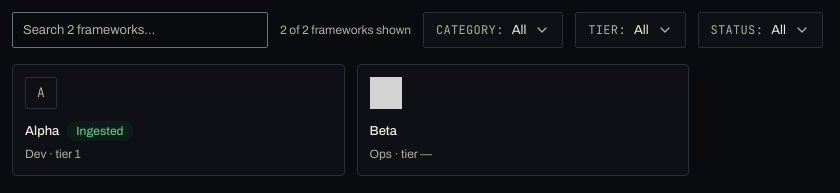
Test: CatalogStage › filters tiles by the search box
Type "beta" into the field named "Search the catalog" at (140, 30), box [12, 12, 268, 48]
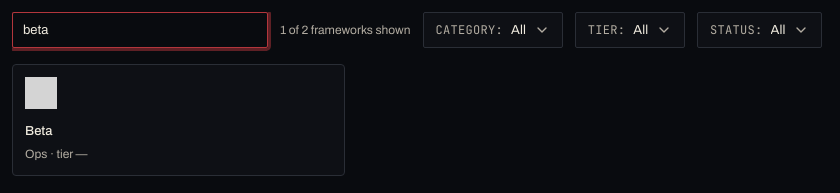
Expected: the text "Beta" is shown, [25, 121, 52, 141]
Expected: the button "Alpha" is gone
Expected: the text "1 of 2 frameworks shown" is shown, [280, 21, 411, 39]
